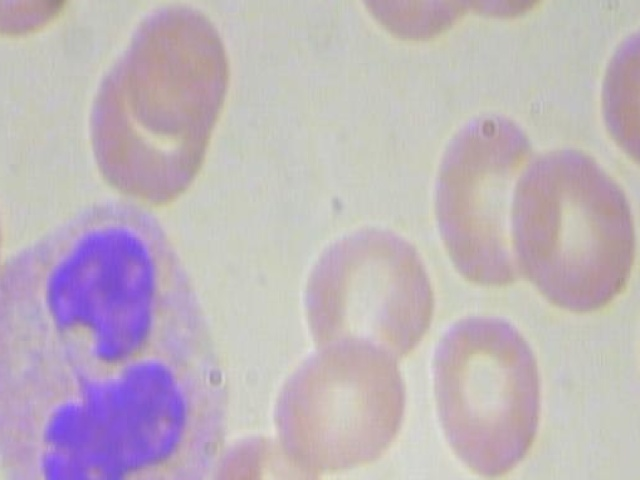RBC: (418, 107, 556, 289), (508, 142, 640, 324), (296, 215, 441, 375), (270, 322, 414, 480), (427, 306, 552, 480), (122, 0, 237, 135), (343, 0, 487, 48), (205, 430, 332, 480), (427, 0, 563, 37), (0, 0, 80, 45), (636, 253, 640, 421), (636, 36, 640, 177)
WBC: (0, 183, 270, 480)
